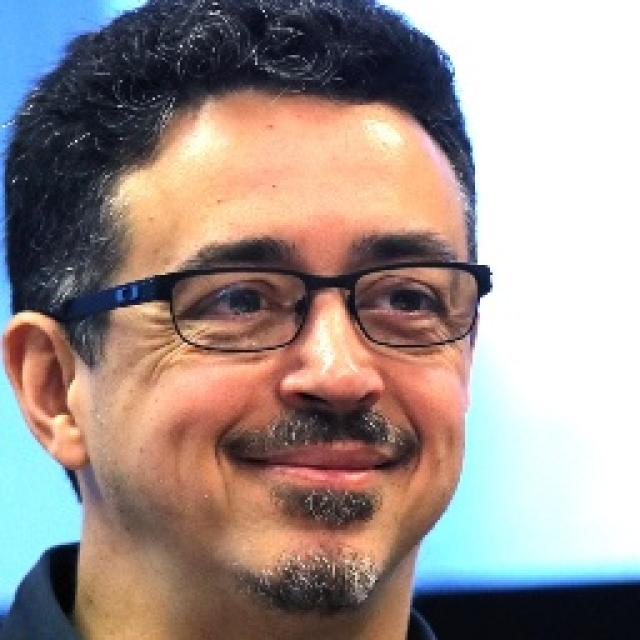earlobe: (44, 423, 88, 471)
eye: (196, 284, 280, 320), (368, 282, 441, 321)
nose: (278, 394, 381, 435)
wholeear: (0, 310, 88, 470)
